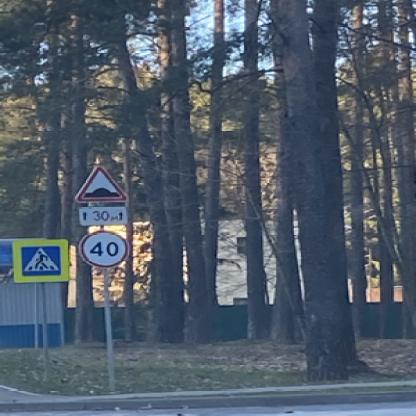Speed Limit 40: (78, 231, 131, 268)
